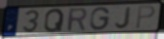3: (21, 8, 42, 34)
G: (89, 6, 111, 31)
J: (114, 6, 133, 30)
P: (134, 4, 156, 30)
Q: (43, 7, 66, 33)
R: (66, 7, 88, 33)
